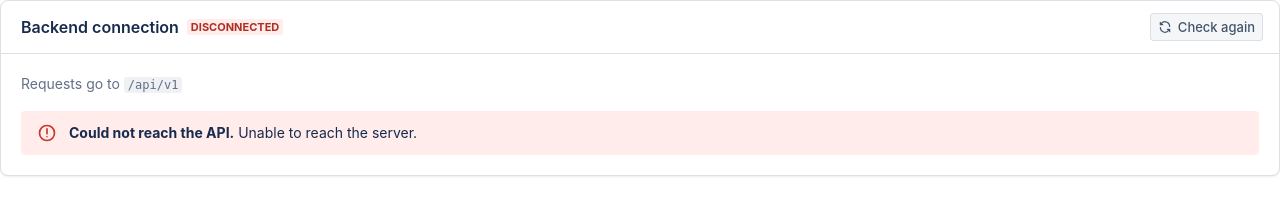
it: HomePage › shows the error and recovers on retry
Check: the message shows "Unable to reach the server.", box x1=238 y1=124 x2=417 y2=141
Check: the text with test id "api-status-badge" reads "Disconnected", box x1=191 y1=20 x2=279 y2=34
Click the button "Check again": (1206, 27) x1=1150 y1=13 x2=1263 y2=41
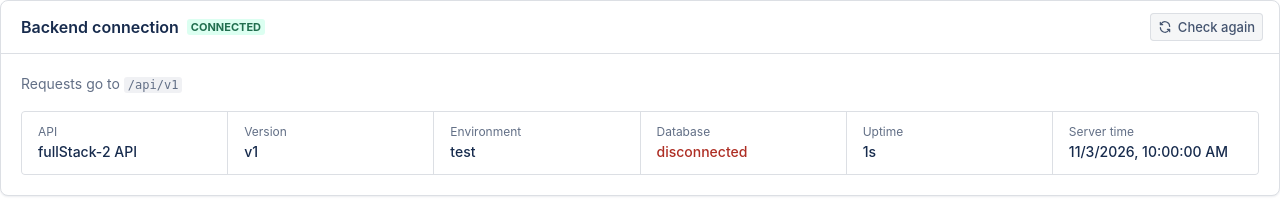
Check: the text "disconnected" is shown, box x1=656 y1=143 x2=747 y2=160
Check: the text "fullStack-2 API" is shown, box x1=38 y1=143 x2=137 y2=160
Check: the message "Could not reach the API. Unable to reach the server." is gone
